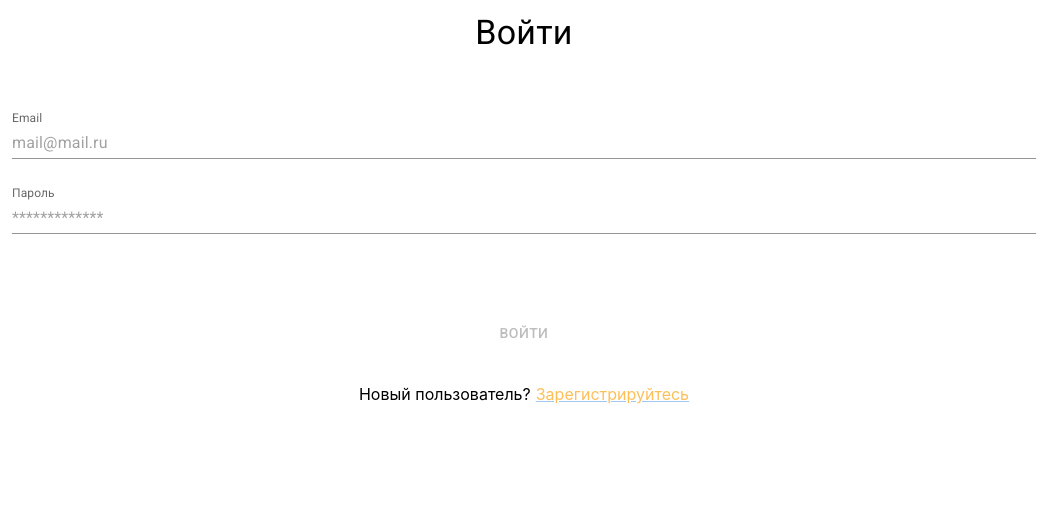
LoginForm › with invalid inputs › renders the validation errors
Type "invalidemail" into the field labelled "Email" at (524, 143), box [12,127,1036,159]
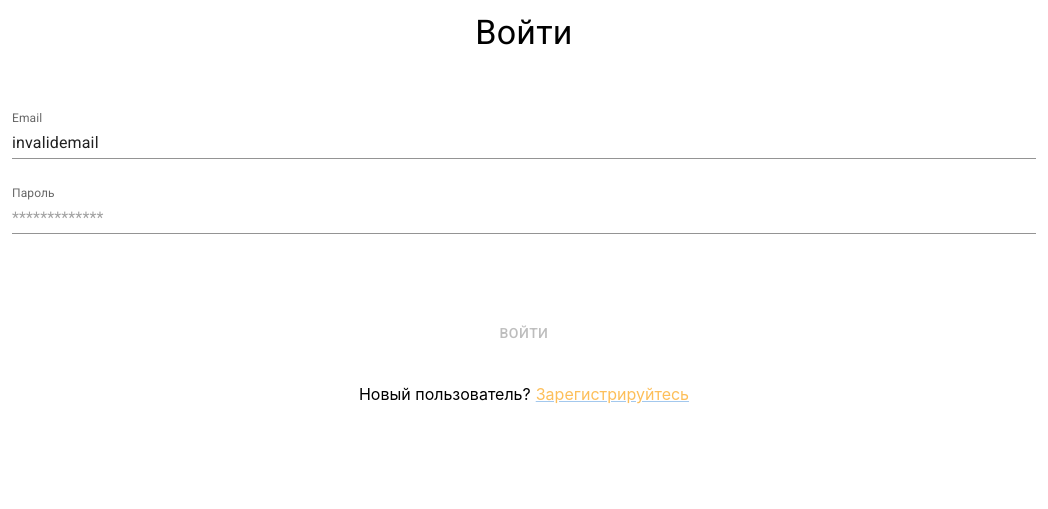
Type "j" into the password field labelled "Пароль" at (524, 218), box [12,202,1036,234]
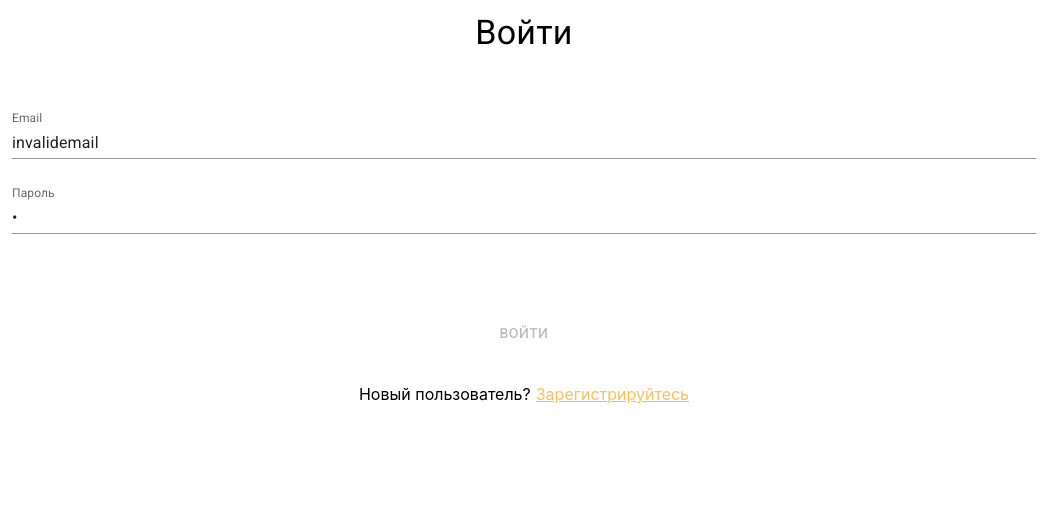
Clear the password field labelled "Пароль" at (524, 218), box [12,202,1036,234]
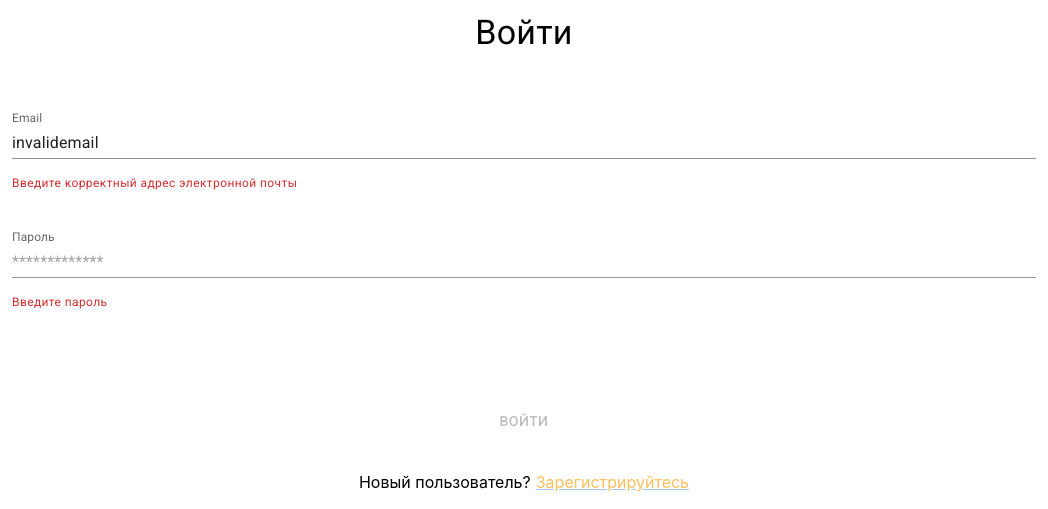
Now the text "Введите корректный адрес электронной почты" is shown, box [12,176,297,190]
Now the text "Введите пароль" is shown, box [12,295,108,309]
